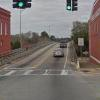Car: (51, 45, 66, 61)
